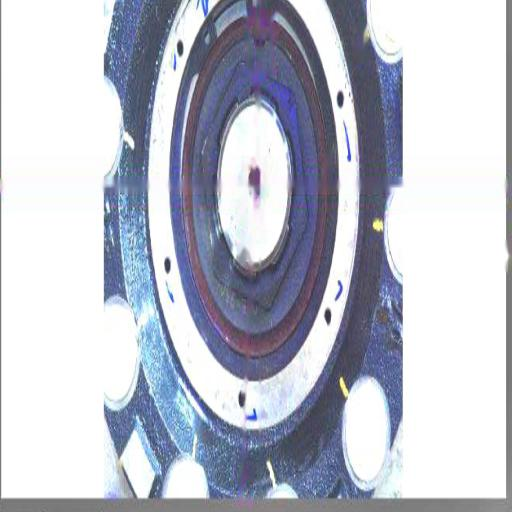center: (244, 164, 262, 196)
notch: (252, 27, 268, 54)
